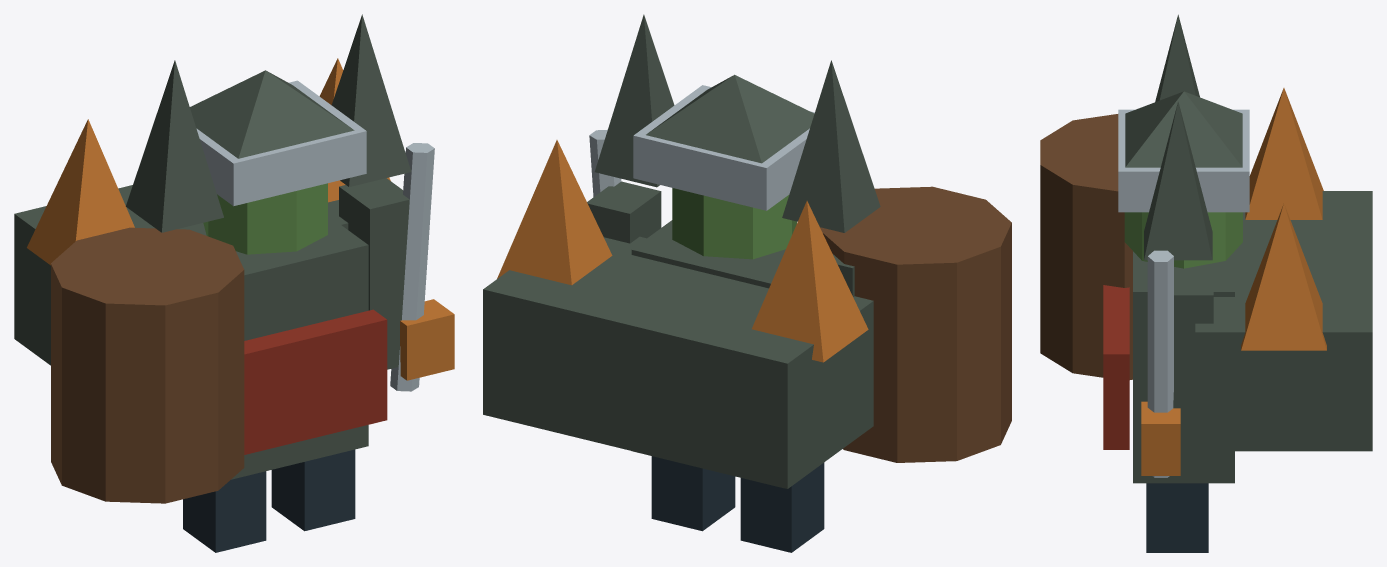
Rendered from heavy-mobile.obj.
3 views of the same model, side by side, from view 1: azimuth 30°, elevation 25°; view 2: azimuth 150°, elevation 25°; view 3: azimuth 270°, elevation 25° (orthographic). The views are drawn at different scales.
Visible parts, largest first — view 1: infantry; view 2: infantry; view 3: infantry.
Boxes of the visible parts, bbox=[...] form: infantry: bbox=[14, 14, 454, 552]; infantry: bbox=[483, 14, 1011, 552]; infantry: bbox=[1040, 14, 1372, 552].
Size of the model in its own units: 1.54 by 1.79 by 1.16.
